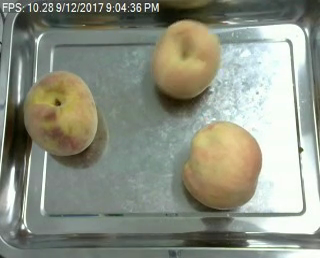Peach: (180, 119, 262, 209), (25, 69, 100, 157), (151, 19, 222, 100)
